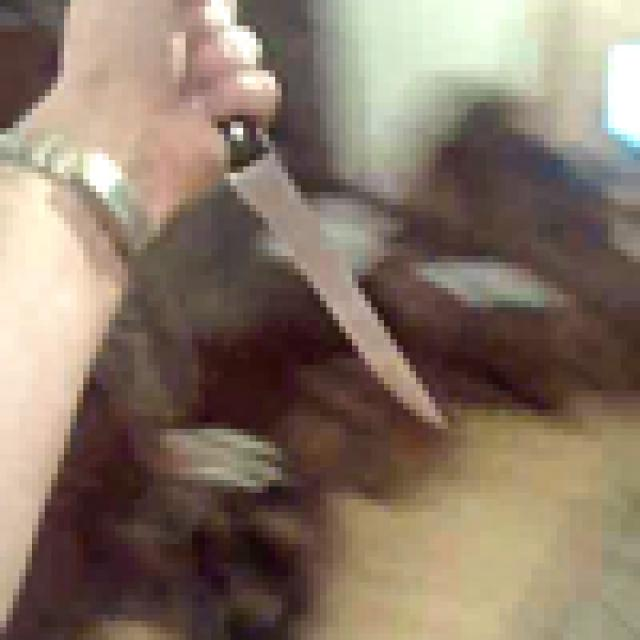Knife: (141, 19, 454, 435)
